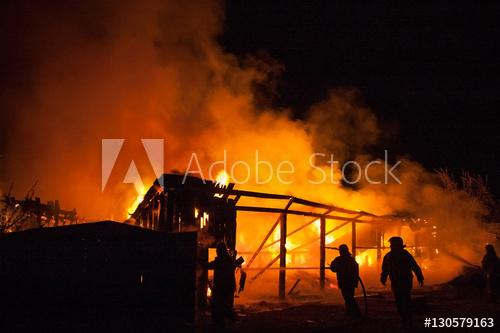fire: (278, 231, 305, 262)
smoke: (66, 75, 320, 188), (399, 184, 483, 272)
